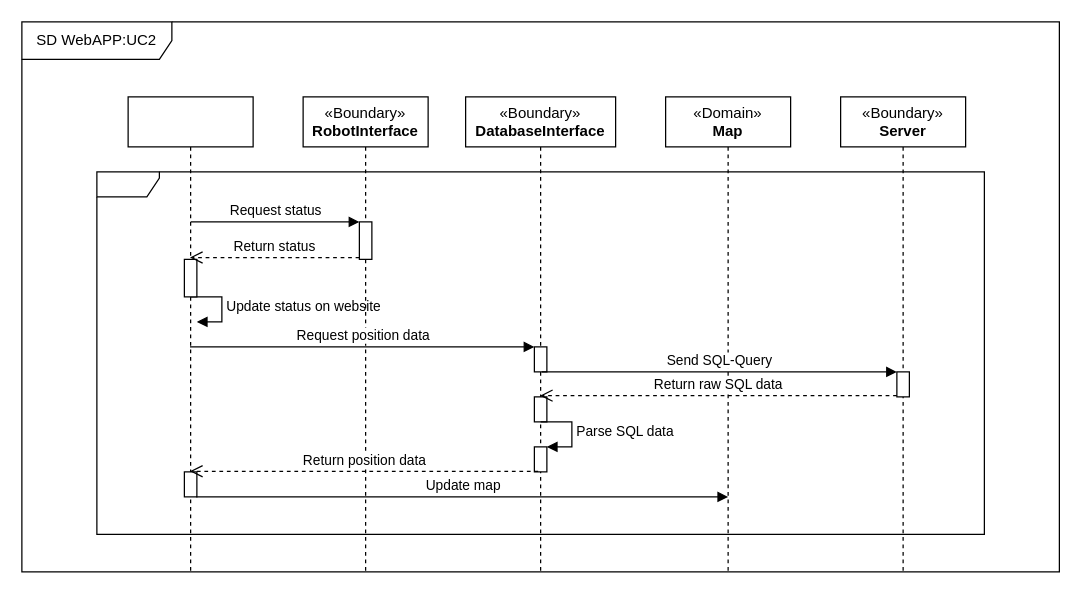
This 1081x594 diagram has some shape labels left out. The box of each missing label's shape, as (x1, y1, x2, y2) in pixels:
loop: (96, 171, 984, 534)
«Controller» WebController: (127, 96, 253, 572)
